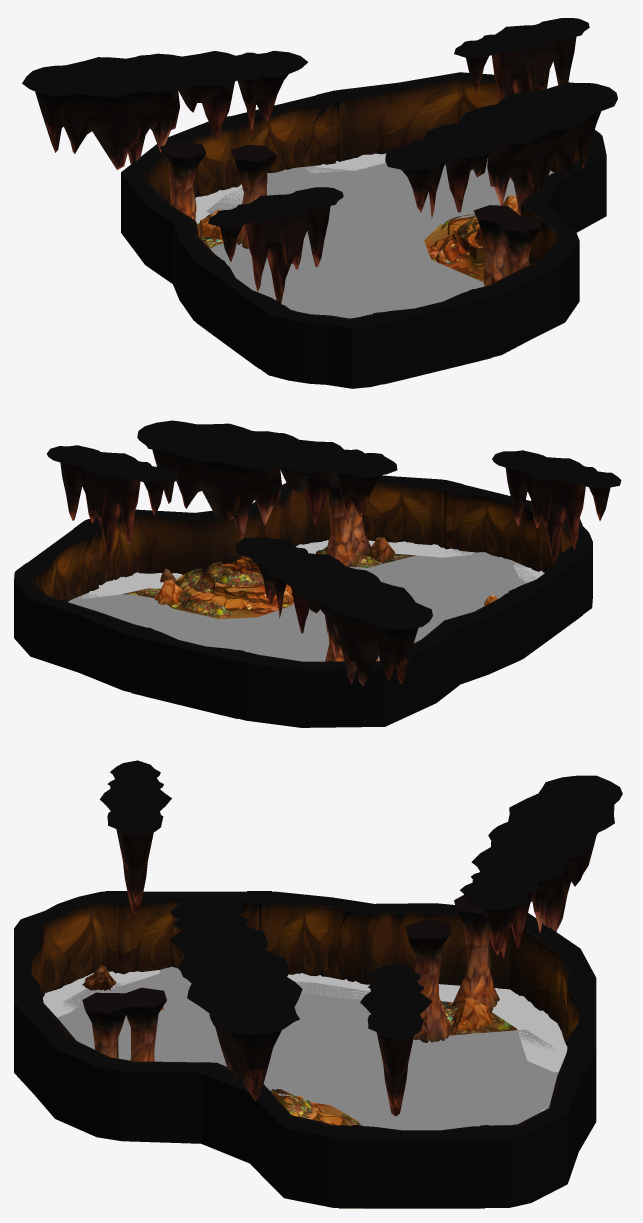
File: Dungeon_062_BossRoom.fbx
3 renders of one model, top to bottom at view 1: azimuth 30°, elevation 25°; view 2: azimuth 150°, elevation 25°; view 3: azimuth 270°, elevation 25°, orthographic. The views are drawn at different scales.
Parts seen in each view (by area): view 1: Dun_061_Room_003_Object02, Dun_061_Room_003_wall, Dun_062_Room_007_Nav, Dun_062_Door_002 (×3), Dun_062_Object025, Dungeon_062_Object_04_Pillar (×2), Dun_062_Object07, Dun_061_Room_003_shadow, Dun_011_Room_003_ground; view 2: Dun_061_Room_003_wall, Dun_061_Room_003_Object02, Dun_062_Door_002 (×4), Dun_062_Room_007_Nav, Dun_061_Room_003_shadow, Dun_062_Object07, Dun_062_Object024, Dungeon_062_Object_04_Pillar, Dun_011_Room_003_ground, Dun_062_Object023, Dun_062_Object025, Dungeon_062_Object_03_Rock; view 3: Dun_061_Room_003_wall, Dun_061_Room_003_Object02, Dun_062_Room_007_Nav, Dun_062_Door_002 (×4), Dun_061_Room_003_shadow, Dungeon_062_Object_04_Pillar (×2), Dun_062_Object025, Dun_062_Object023, Dun_011_Room_003_ground, Dun_062_Object024.
Boxes of the visible parts, x1,y1,x2,y2 form: Dun_061_Room_003_Object02: (22, 18, 617, 302); Dun_061_Room_003_wall: (121, 72, 606, 388); Dun_062_Room_007_Nav: (206, 158, 553, 318); Dun_062_Door_002 (×3): (195, 90, 497, 382); Dun_062_Object025: (160, 141, 541, 276); Dungeon_062_Object_04_Pillar (×2): (230, 145, 519, 286); Dun_062_Object07: (434, 217, 486, 276); Dun_061_Room_003_shadow: (195, 153, 386, 223); Dun_011_Room_003_ground: (196, 214, 491, 384); Dun_061_Room_003_wall: (14, 475, 592, 727); Dun_061_Room_003_Object02: (47, 420, 621, 685); Dun_062_Door_002 (×4): (16, 480, 590, 715); Dun_062_Room_007_Nav: (68, 549, 536, 661); Dun_061_Room_003_shadow: (78, 540, 544, 598); Dun_062_Object07: (176, 555, 291, 611); Dun_062_Object024: (174, 546, 368, 617); Dungeon_062_Object_04_Pillar: (325, 473, 358, 567); Dun_011_Room_003_ground: (122, 553, 582, 718); Dun_062_Object023: (160, 537, 394, 604); Dun_062_Object025: (351, 506, 378, 661); Dungeon_062_Object_03_Rock: (154, 580, 183, 604); Dun_061_Room_003_wall: (14, 891, 596, 1207); Dun_061_Room_003_Object02: (100, 760, 622, 1116); Dun_062_Room_007_Nav: (57, 966, 558, 1130); Dun_062_Door_002 (×4): (14, 891, 596, 1208); Dun_061_Room_003_shadow: (43, 970, 567, 1112); Dungeon_062_Object_04_Pillar (×2): (122, 919, 453, 1061); Dun_062_Object025: (82, 895, 499, 1058); Dun_062_Object023: (82, 965, 493, 1095); Dun_011_Room_003_ground: (92, 973, 517, 1208); Dun_062_Object024: (269, 1089, 360, 1125).
Bounding box in the file's own units: 17.49 × 5.02 × 15.84.
